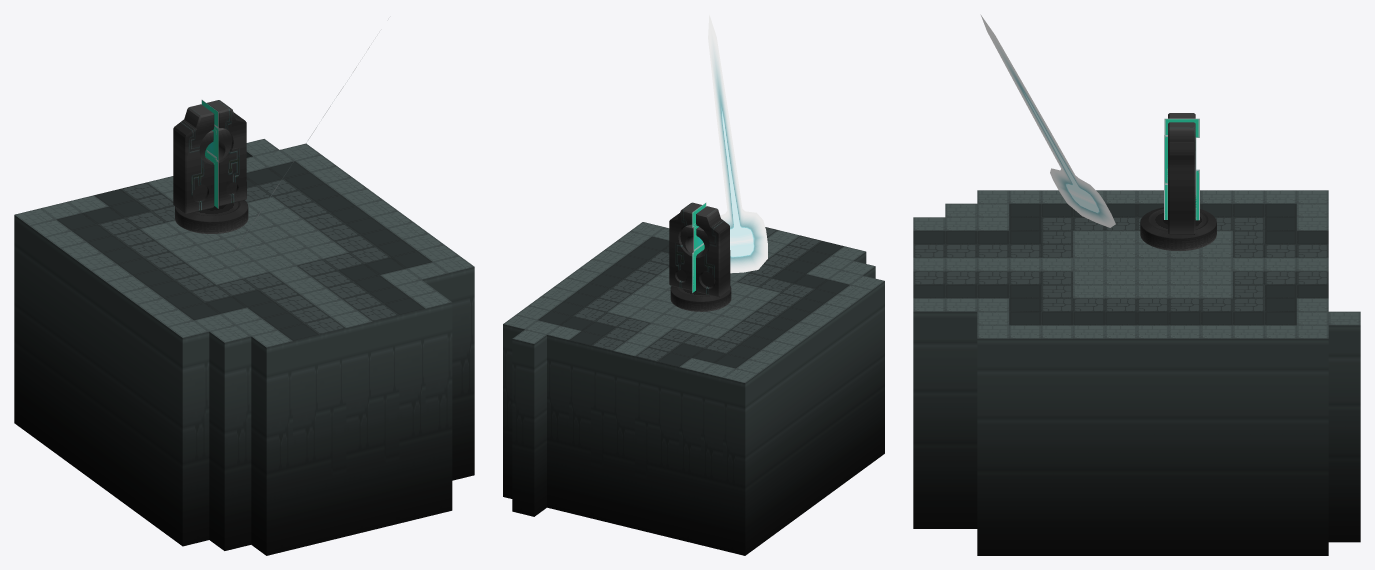
File: room_boss.fbx
3 renders of one model, left to right at view 1: azimuth 30°, elevation 25°; view 2: azimuth 150°, elevation 25°; view 3: azimuth 270°, elevation 25°, orthographic. The views are drawn at different scales.
Visible parts, largest first — view 1: base (×2), piece_target (1), piece_target (2); view 2: base (×2), fx_light_item, piece_target (1), piece_target (2); view 3: base (×2), piece_target (1), fx_light_item.
Part boxes in pixels (x1,y1,x2,y2): base (×2): (14, 139, 474, 555); piece_target (1): (173, 100, 246, 214); piece_target (2): (192, 127, 236, 201); base (×2): (503, 222, 884, 555); fx_light_item: (708, 15, 767, 273); piece_target (1): (669, 202, 730, 297); piece_target (2): (680, 224, 714, 286); base (×2): (913, 190, 1360, 555); piece_target (1): (1168, 113, 1195, 234); fx_light_item: (980, 14, 1115, 227).
Size of the model in its own units: 11 by 17.28 by 14.
Materials: 6 (6 with a texture image).
